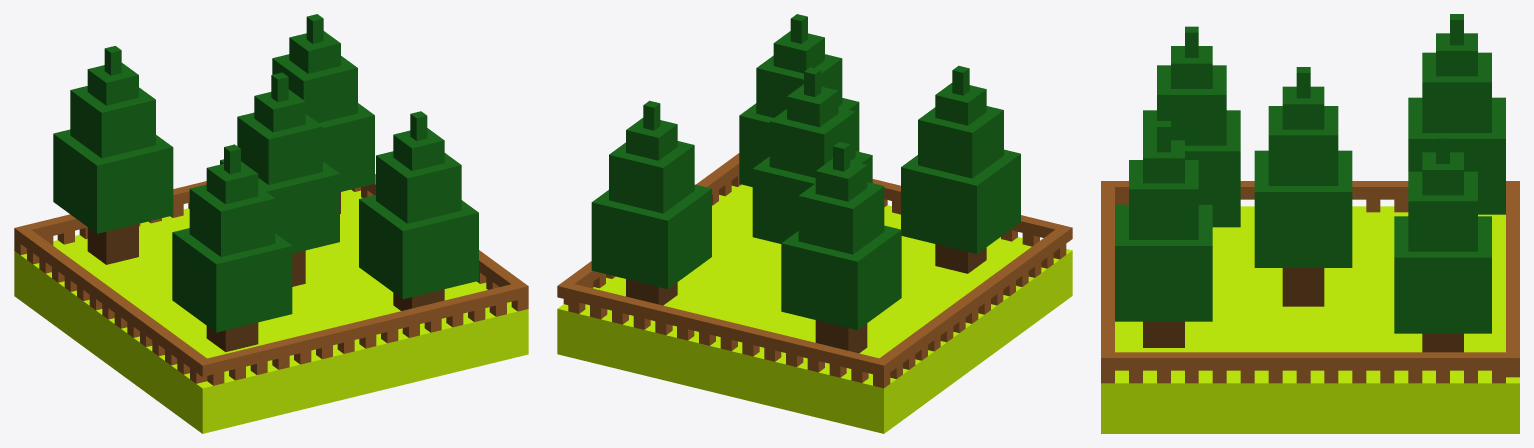
File: PreserveForest_1.obj
The picture shows the model from 3 angles, left to right: view 1: azimuth 30°, elevation 25°; view 2: azimuth 150°, elevation 25°; view 3: azimuth 270°, elevation 25°; orthographic projection. The views are drawn at different scales.
Size of the model in its own units: 3 by 2.2 by 3.
